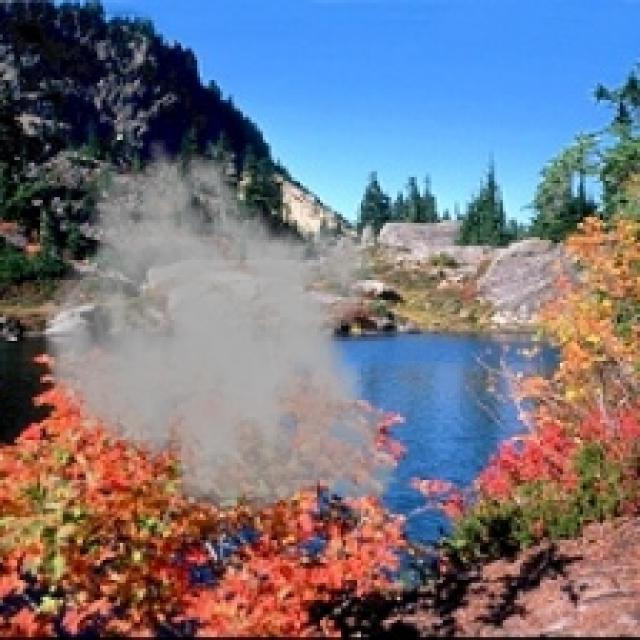smoke: (43, 137, 414, 526)
